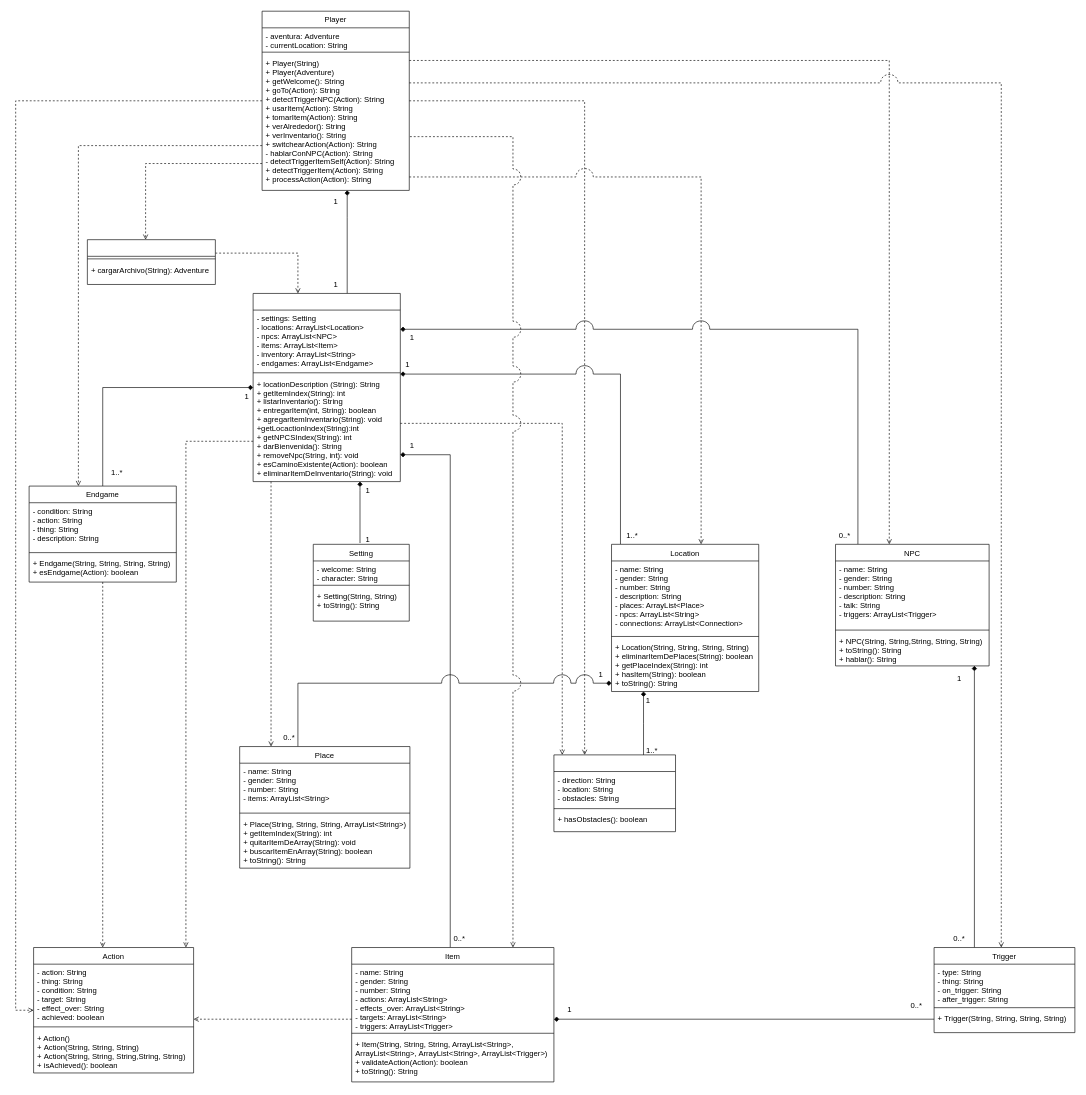
This 1086x1095 diagram has some shape labels left out. The shapes that lost their labels are listed below. From the top down, each one's box as (x1, y1, x2, y2) in pixels, then its label:
(87, 239, 215, 284): LoadAdventure
(252, 293, 400, 482): Adventure
(553, 754, 676, 832): Connection
